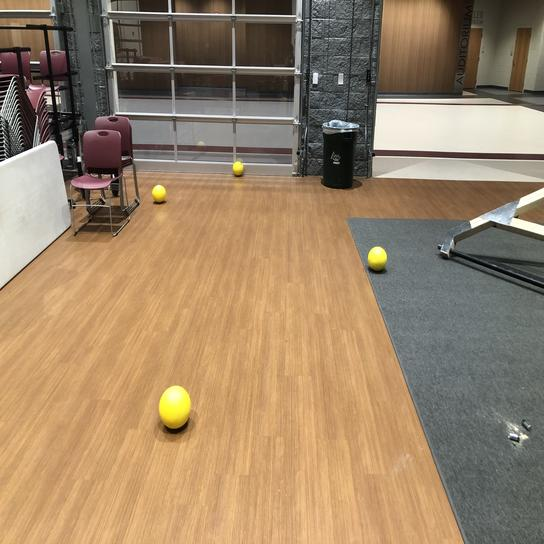ball: (157, 383, 191, 431), (366, 244, 388, 273), (150, 183, 166, 205), (231, 160, 244, 178)
